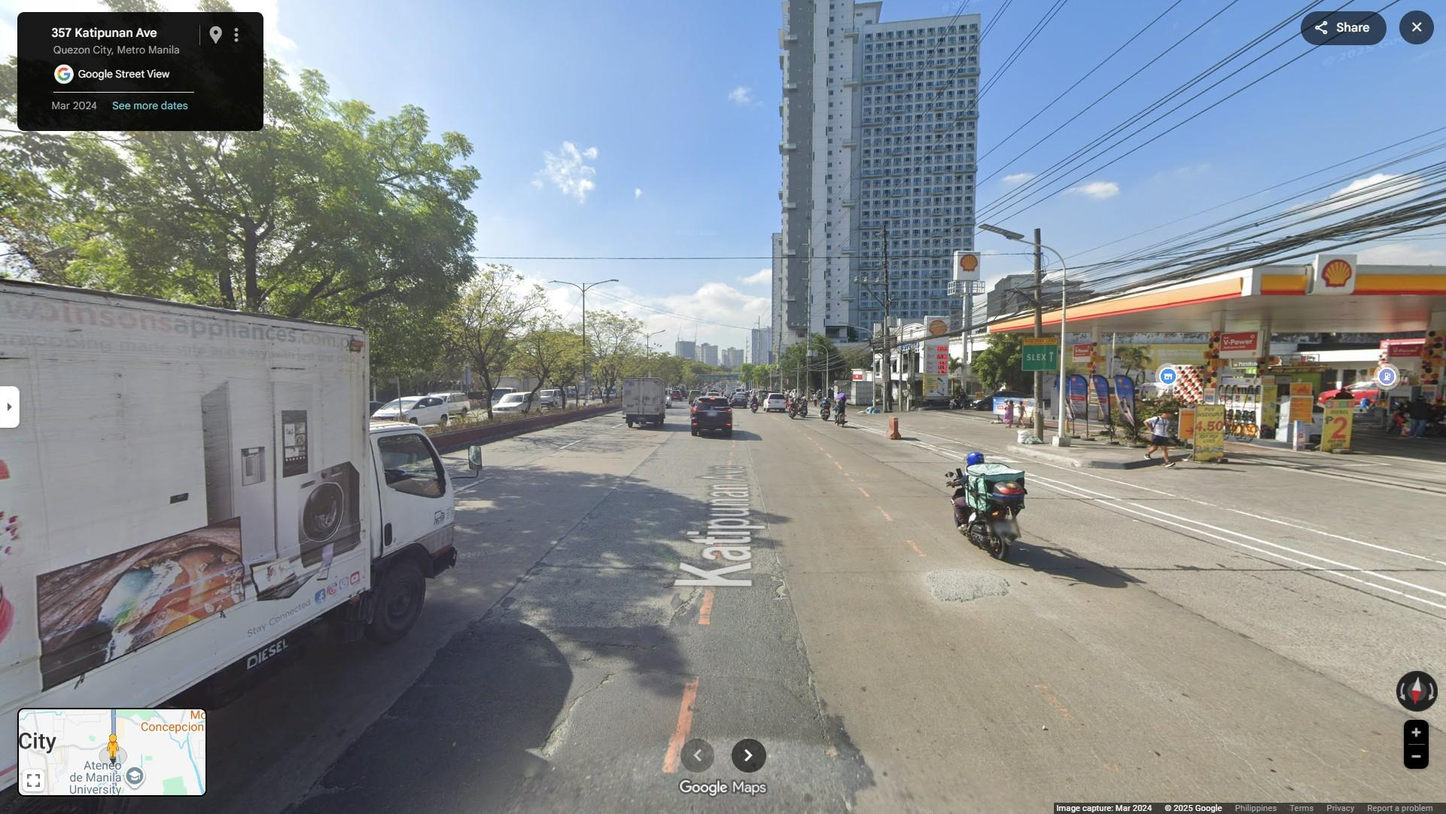pedestrian: (1144, 409, 1177, 469), (1331, 386, 1355, 433), (1410, 394, 1431, 439), (1428, 394, 1446, 437), (1011, 400, 1028, 428), (1003, 399, 1014, 429), (839, 393, 846, 416), (812, 391, 818, 407)
